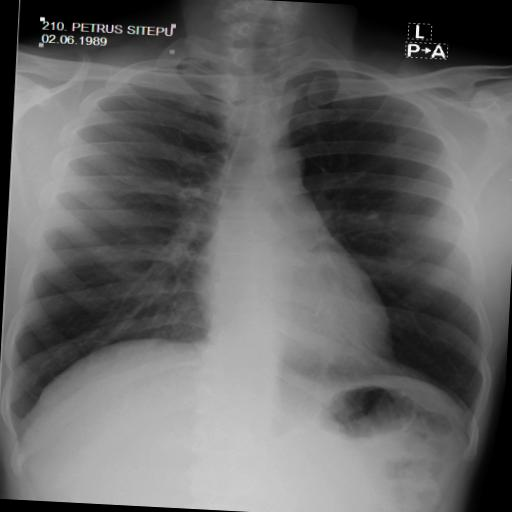normal: (1, 24, 512, 468)
